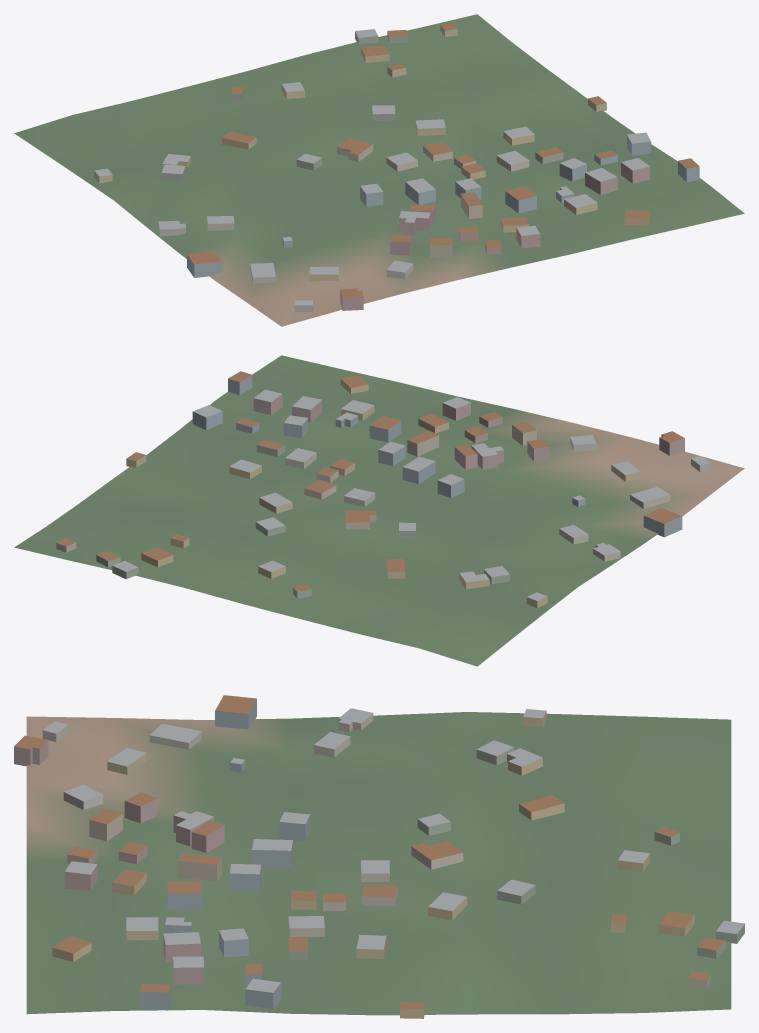
3 renders of one model, top to bottom at view 1: azimuth 30°, elevation 25°; view 2: azimuth 150°, elevation 25°; view 3: azimuth 270°, elevation 25°, orthographic. The views are drawn at different scales.
Parts seen in each view (by area): view 1: Lo; view 2: Lo; view 3: Lo.
Part boxes in pixels (left/top/right/bottom): Lo: left=14, top=14, right=744, bottom=326; Lo: left=14, top=355, right=744, bottom=666; Lo: left=14, top=695, right=744, bottom=1018.
Bounding box in the file's own units: 265 × 10.84 × 266.
